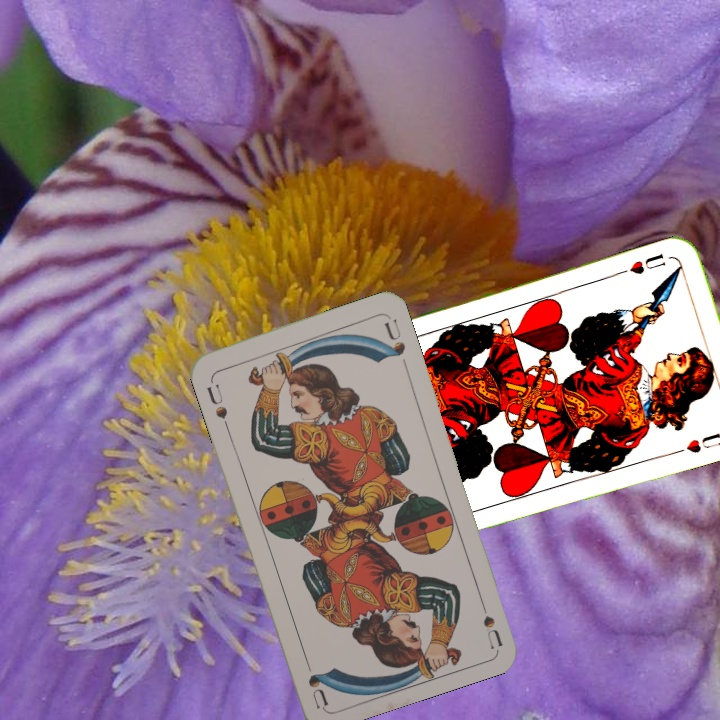HU: (625, 249, 669, 277)
SU: (474, 591, 505, 650), (202, 380, 232, 432)
